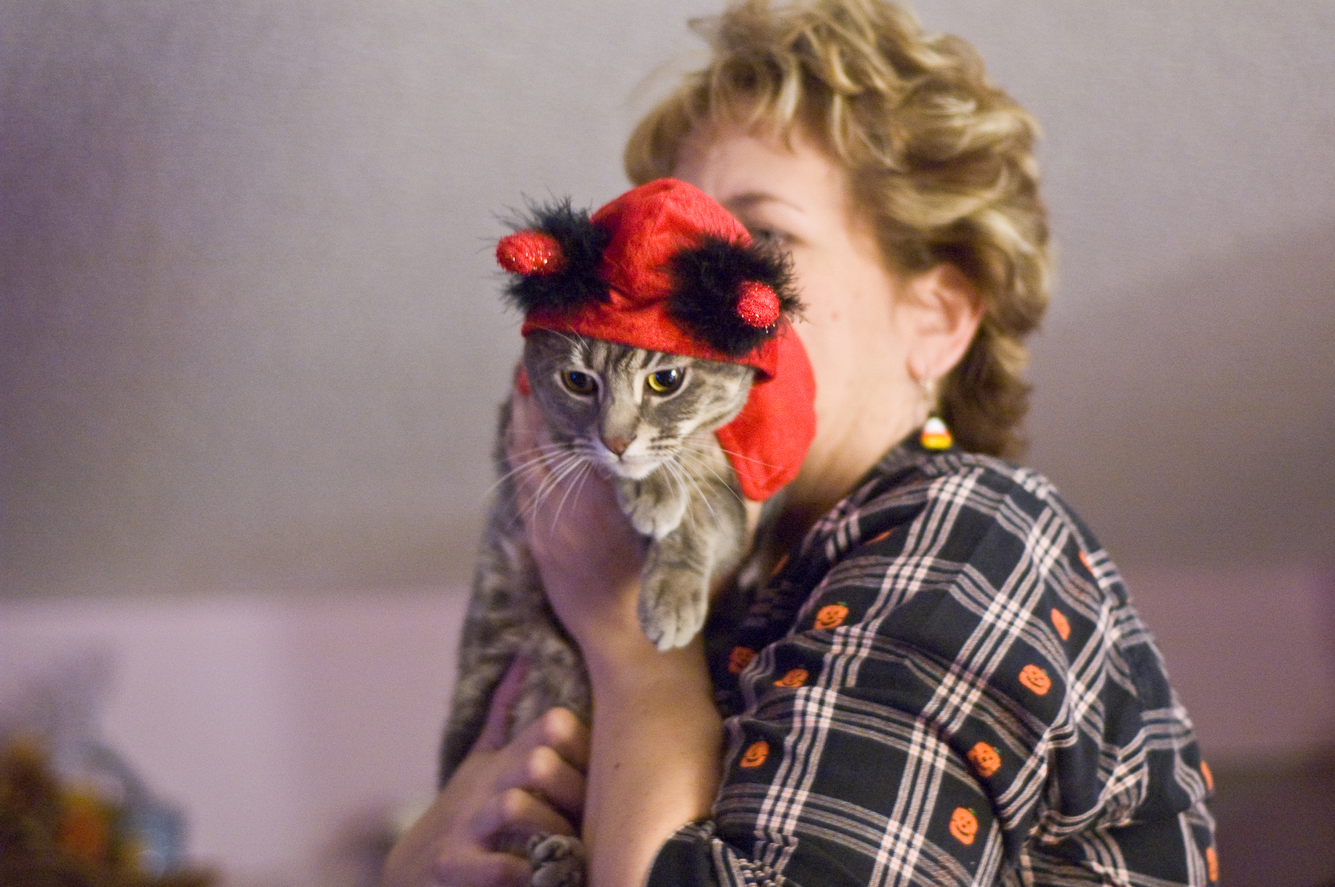cat: (436, 177, 770, 886)
